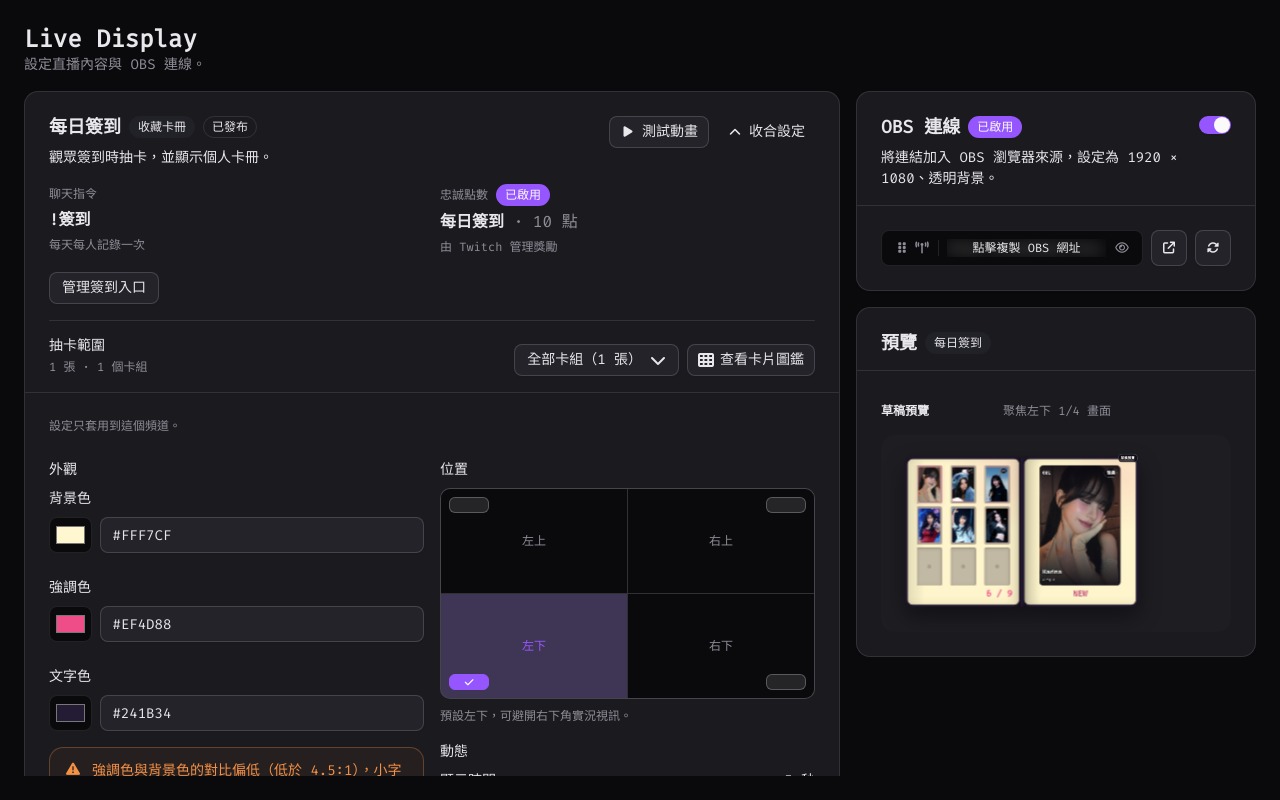
Test: CommunityOverlaySettings › blocks invalid color syntax but only warns on low contrast
Replace the text in the field labelled "背景色" with "#123" at (262, 535), box [100,517,424,553]
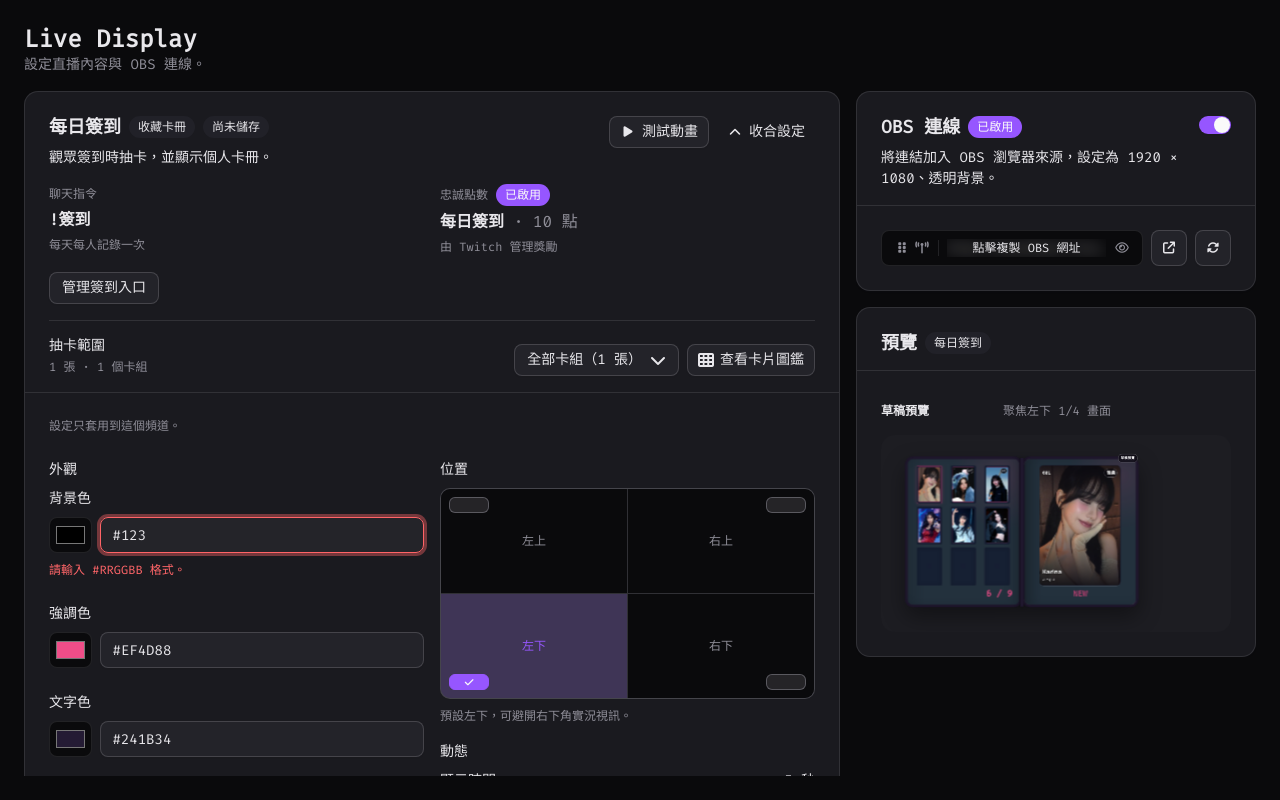
Expected: the text "請輸入 #RRGGBB 格式。" is shown, [49,562,186,578]
Replace the text in the field labelled "背景色" with "#241B34" at (262, 535), box [100,517,424,553]
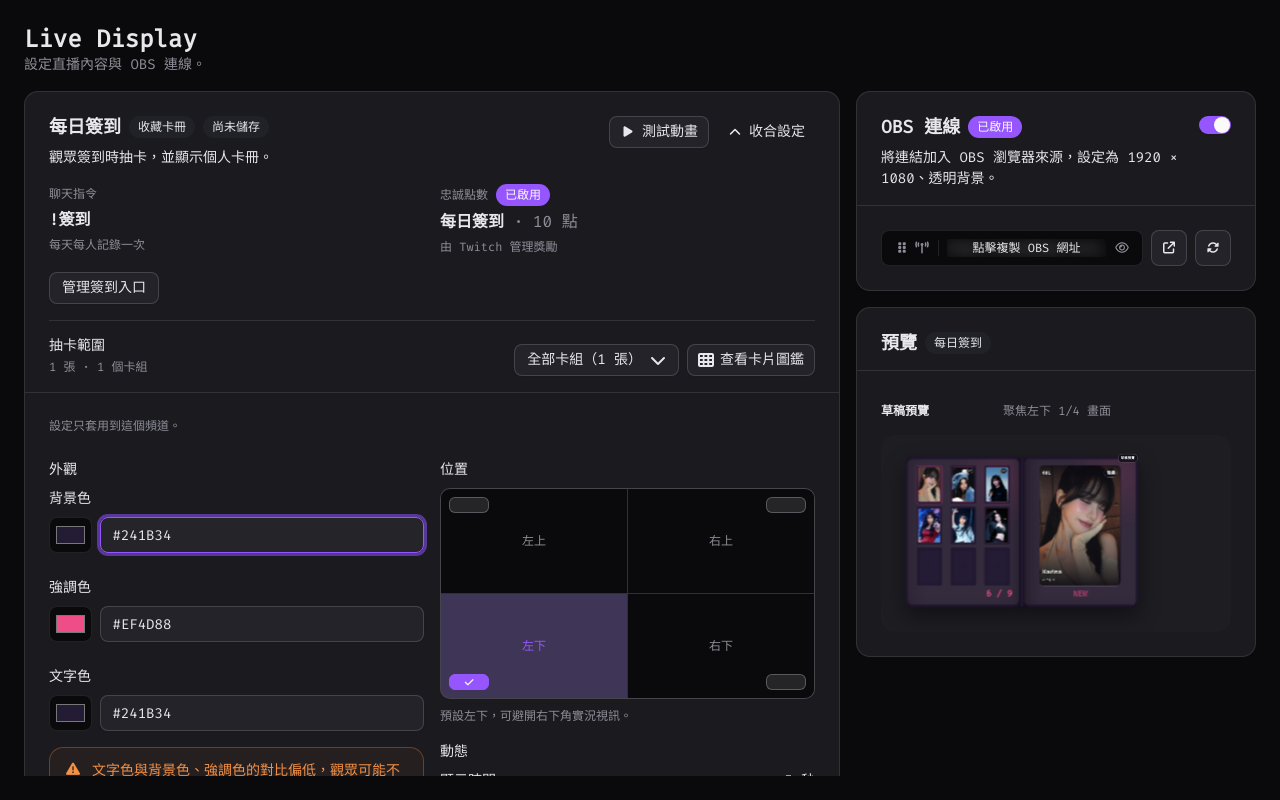
Replace the text in the field labelled "背景色" with "#EF4D88" at (262, 535), box [100,517,424,553]
(page scrolled)
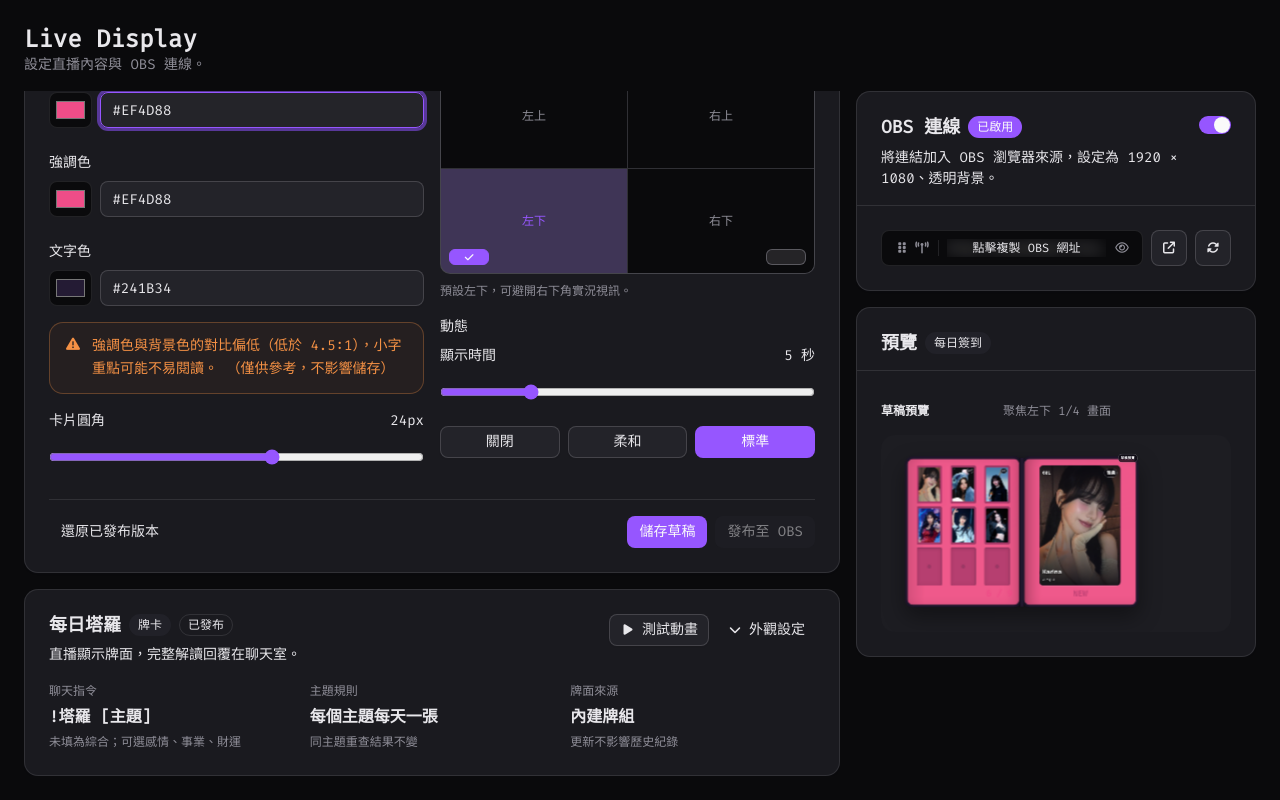
Expected: the text "強調色與背景色的對比偏低（低於 4.5:1），小字重點可能不易閱讀。 （僅供參考，不影響儲存）" is shown, [92,335,407,380]
Expected: the button "儲存草稿" is enabled, [627,516,707,548]
